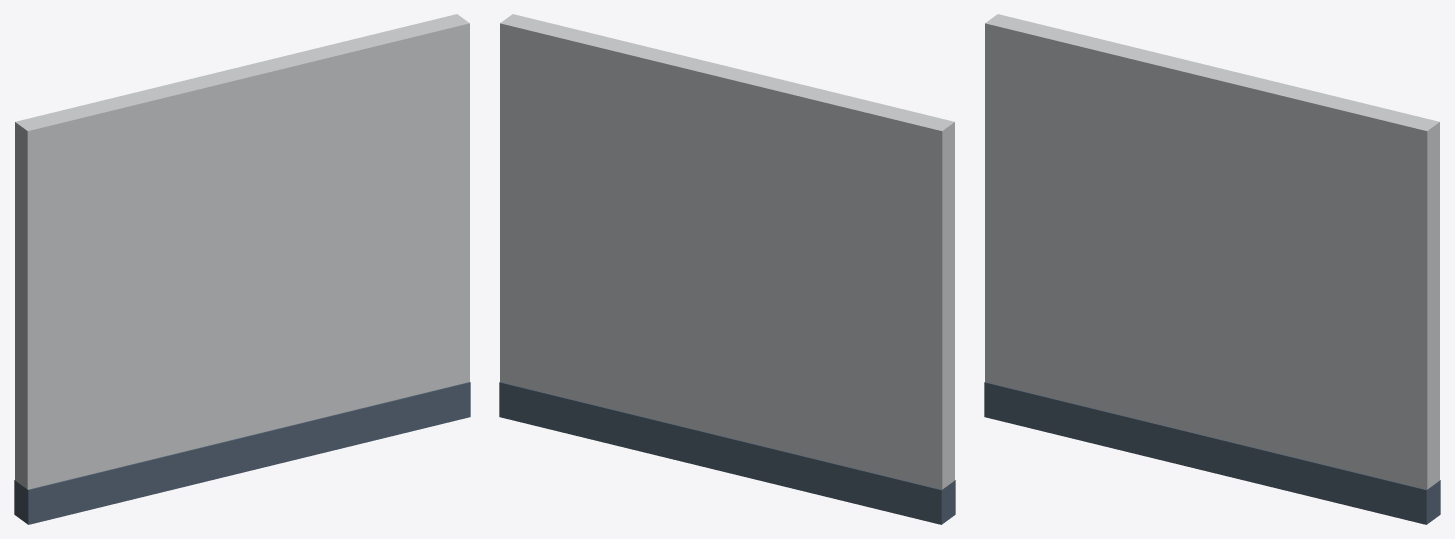
The model's file is Wall_Solid.obj.
3 renders of one model, left to right at view 1: azimuth 30°, elevation 25°; view 2: azimuth 150°, elevation 25°; view 3: azimuth 330°, elevation 25°, orthographic.
Parts seen in each view (by area): view 1: Wall; view 2: Wall; view 3: Wall.
Part boxes in pixels (<box>): Wall: <box>14,14,470,524</box>; Wall: <box>499,14,955,524</box>; Wall: <box>984,14,1440,524</box>.
Bounding box in the file's own units: 4 × 3.4 × 0.22.
